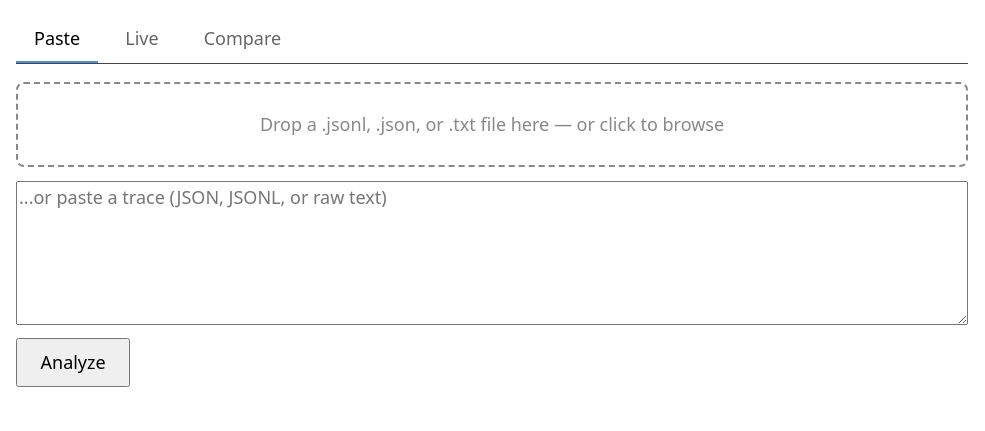
Test: App: compare tab › lazily mounts the compare panel when the Compare tab is selected
Click the button "Compare". click: (242, 40)
box: top-left (186, 16), bottom-right (299, 63)
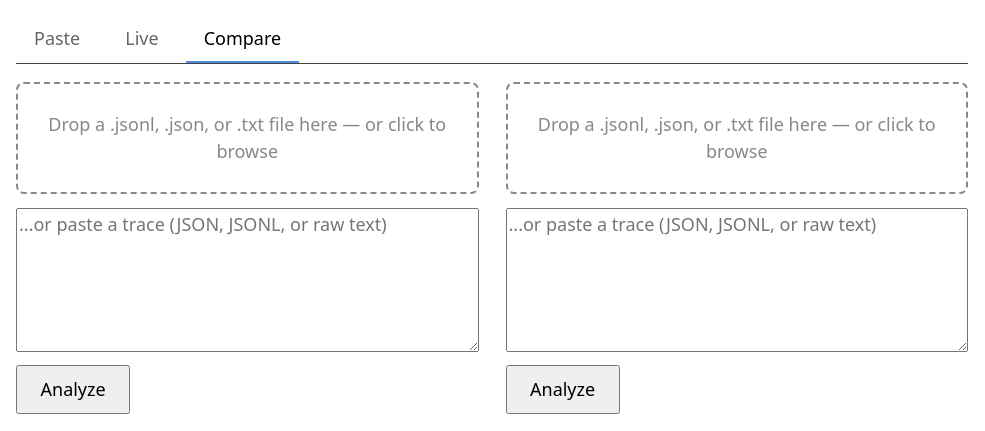
Expected: the element with class "compare-panel" is shown
